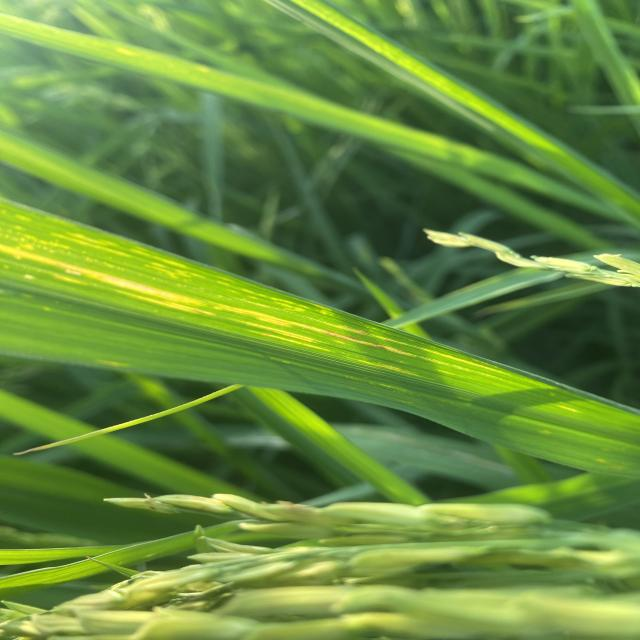Dom soc vi khuan: (0, 244, 204, 305), (214, 303, 413, 356), (323, 322, 403, 344), (245, 321, 315, 342), (356, 359, 419, 377), (261, 333, 321, 349)
